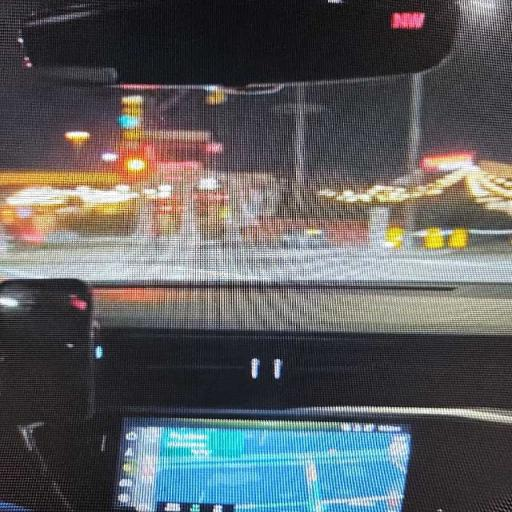car: (0, 0, 511, 511)
lane: (0, 247, 511, 282)
